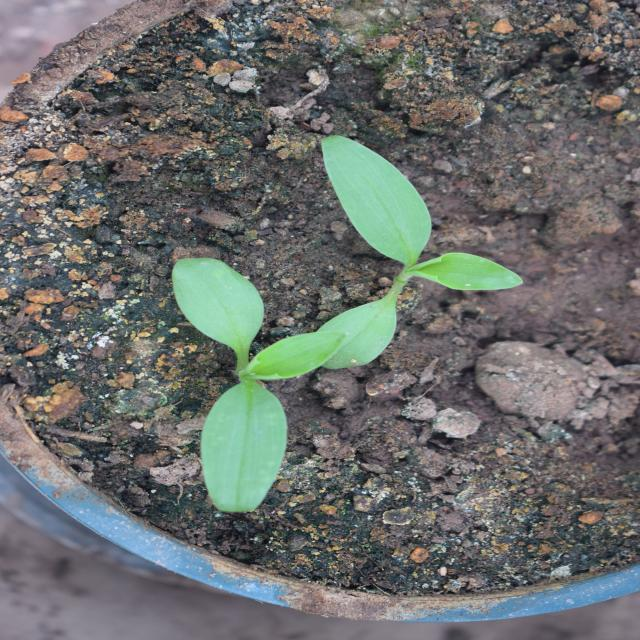Common Dayflower: (120, 130, 375, 333), (233, 301, 536, 471)
